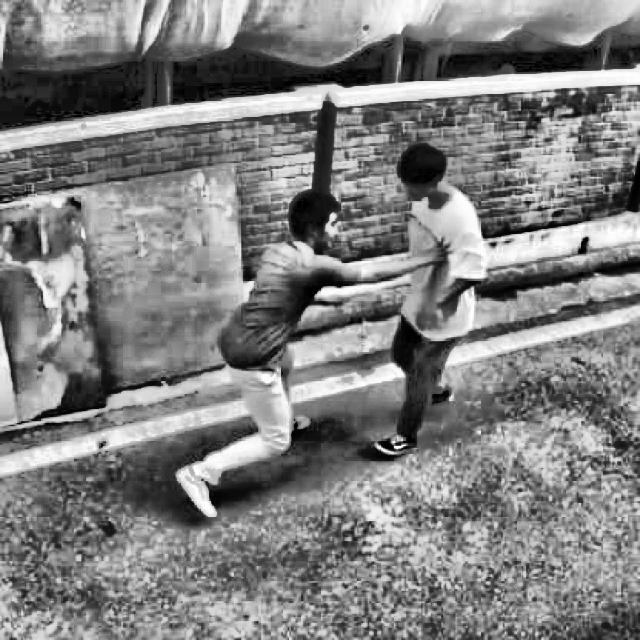robbery: (170, 139, 491, 535)
